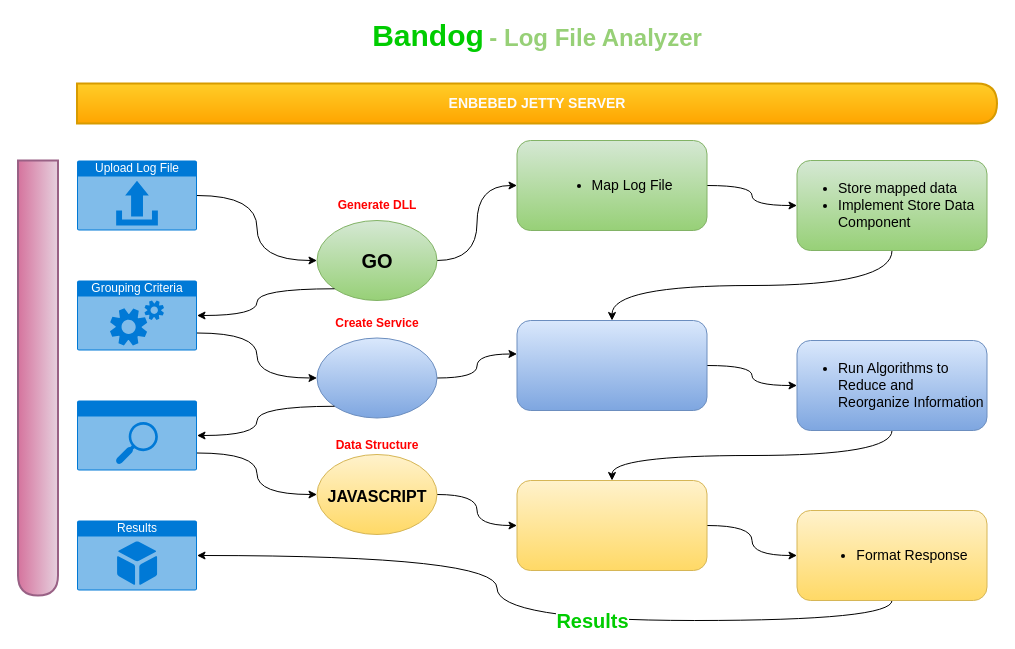
The diagram is 1015 pixels wide and 649 high, and some of its shapes have lost their labels. Each missing label, with the box of its shape:
Evaluate Grouping Criteria: (516, 320, 707, 410)
Filter and Search Information: (516, 480, 707, 570)
Filters and Search: (76, 400, 196, 470)
PYTHON: (316, 337, 437, 418)
REACT FRAMEWORK: (16, 159, 58, 596)
